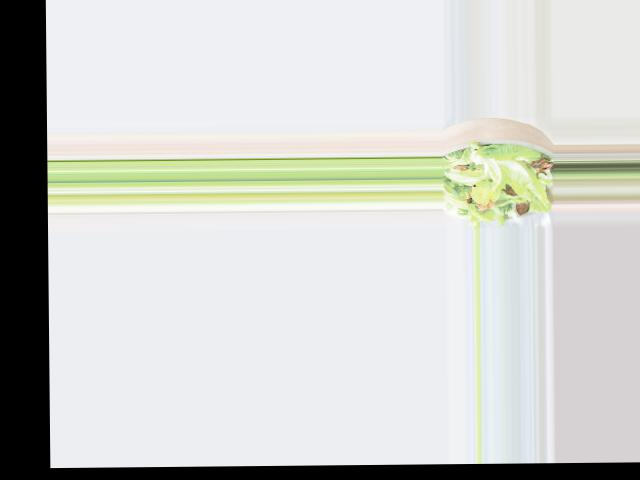lettuce: (448, 143, 543, 221)
